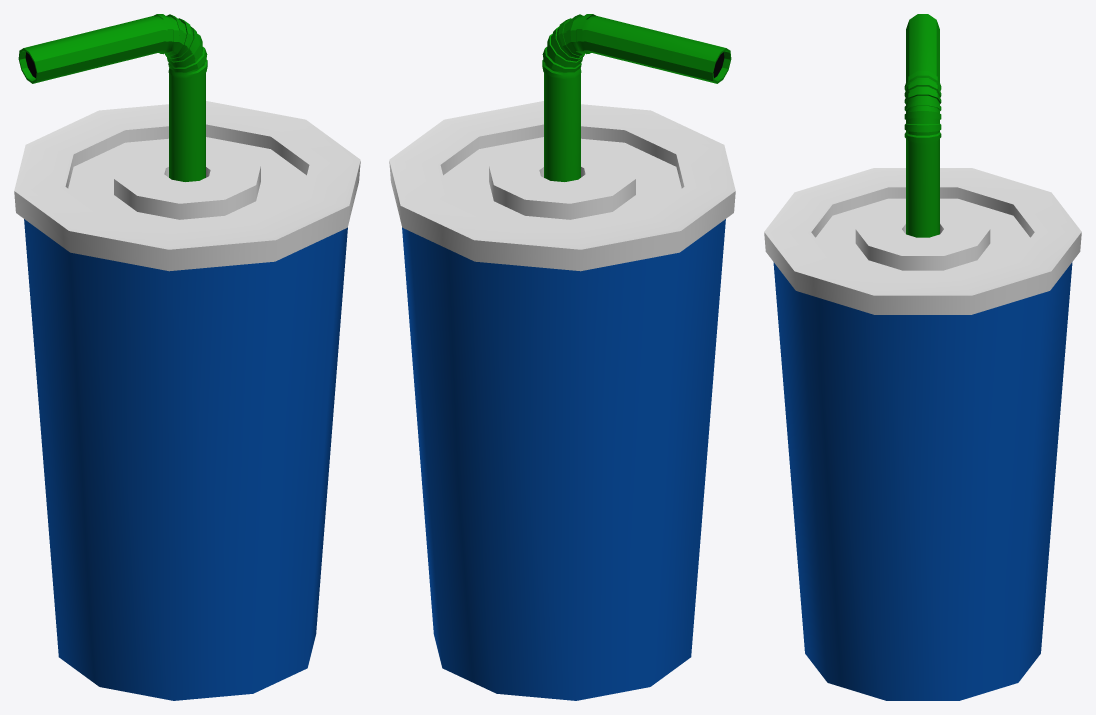
Rendered from stakan.fbx.
3 renders of one model, left to right at view 1: azimuth 30°, elevation 25°; view 2: azimuth 150°, elevation 25°; view 3: azimuth 270°, elevation 25°, orthographic. The views are drawn at different scales.
Visible parts, largest first — view 1: Cylinder; view 2: Cylinder; view 3: Cylinder.
Boxes of the visible parts, x1,y1,x2,y2 form: Cylinder: [14, 14, 360, 700]; Cylinder: [389, 14, 735, 700]; Cylinder: [764, 14, 1081, 700].
Size of the model in its own units: 209 by 414 by 209.
1 material, 1 textured.
